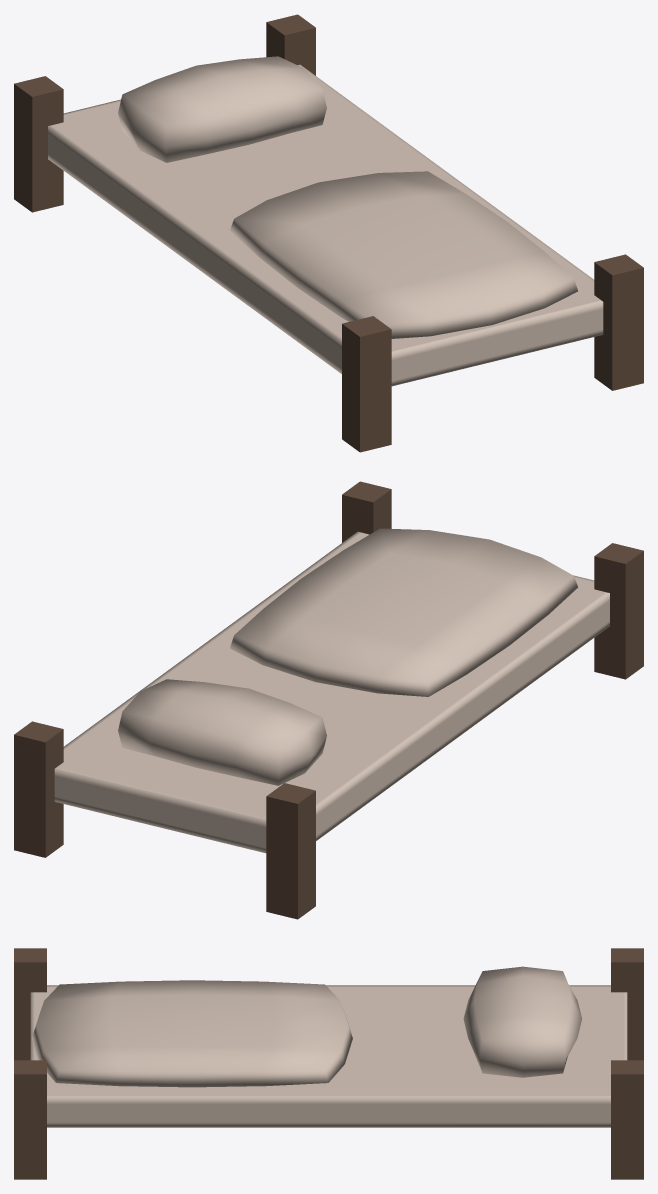
File: bed.gltf
3 renders of one model, top to bottom at view 1: azimuth 30°, elevation 25°; view 2: azimuth 150°, elevation 25°; view 3: azimuth 270°, elevation 25°, orthographic. The views are drawn at different scales.
Visible parts, largest first — view 1: Cube; view 2: Cube; view 3: Cube.
Boxes of the visible parts, <box> form: Cube: <box>14,14,643,452</box>; Cube: <box>14,481,643,919</box>; Cube: <box>14,948,643,1179</box>.
Size of the model in its own units: 0.9 by 0.4165 by 1.9.
Materials: 1 (1 with a texture image).
